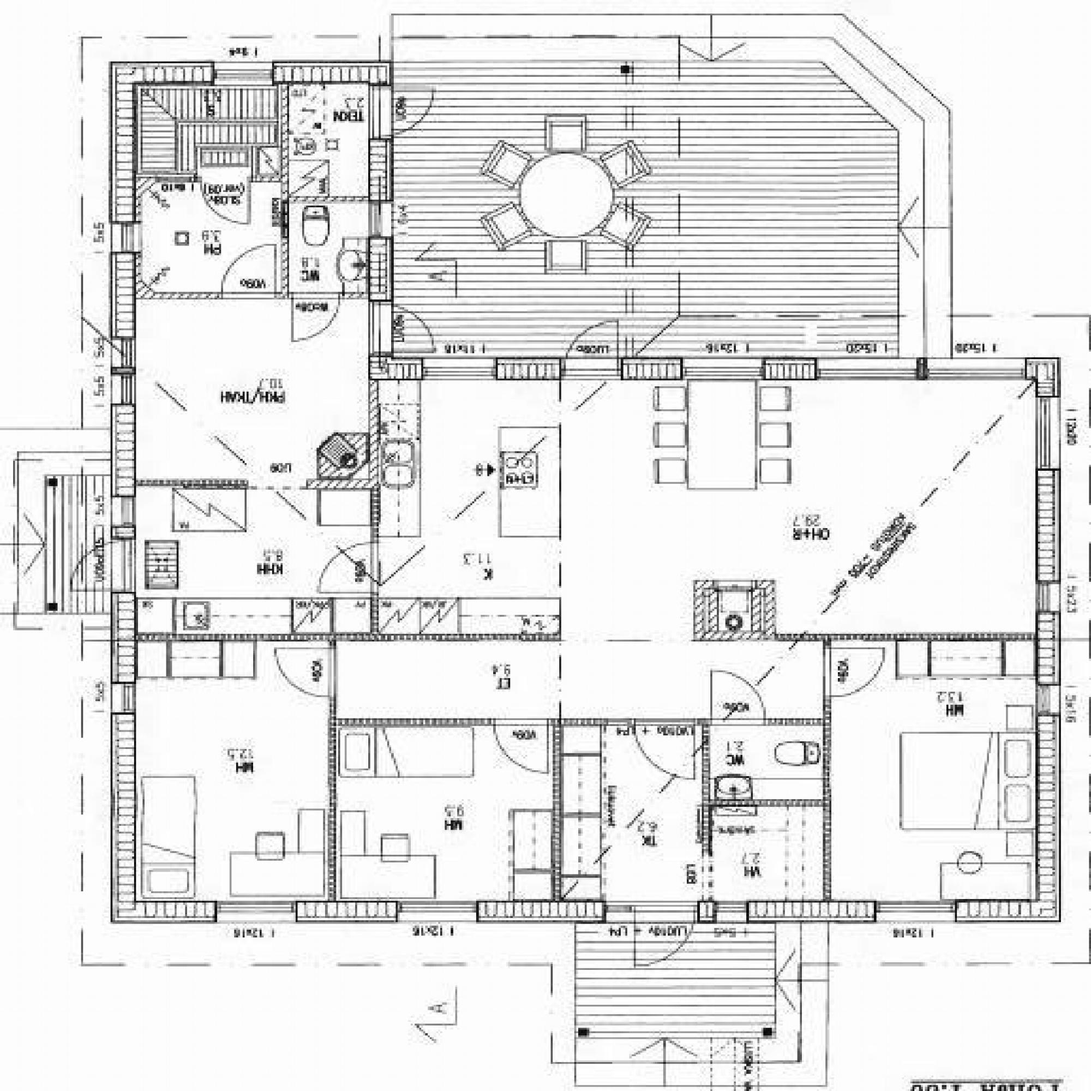wall: (112, 901, 1061, 923), (111, 299, 136, 923), (369, 358, 1061, 379), (1037, 358, 1061, 923), (369, 61, 393, 380), (112, 62, 282, 88), (112, 61, 142, 182), (328, 718, 831, 725), (112, 182, 142, 299), (281, 61, 393, 83), (823, 634, 831, 923), (328, 634, 335, 923), (775, 634, 1061, 641), (111, 292, 393, 299), (111, 634, 376, 641), (369, 380, 376, 641), (281, 61, 288, 299), (702, 719, 709, 923), (112, 479, 308, 486), (369, 634, 562, 641), (555, 719, 562, 901), (112, 175, 282, 182), (281, 196, 393, 203), (702, 799, 831, 805), (308, 479, 376, 489)
